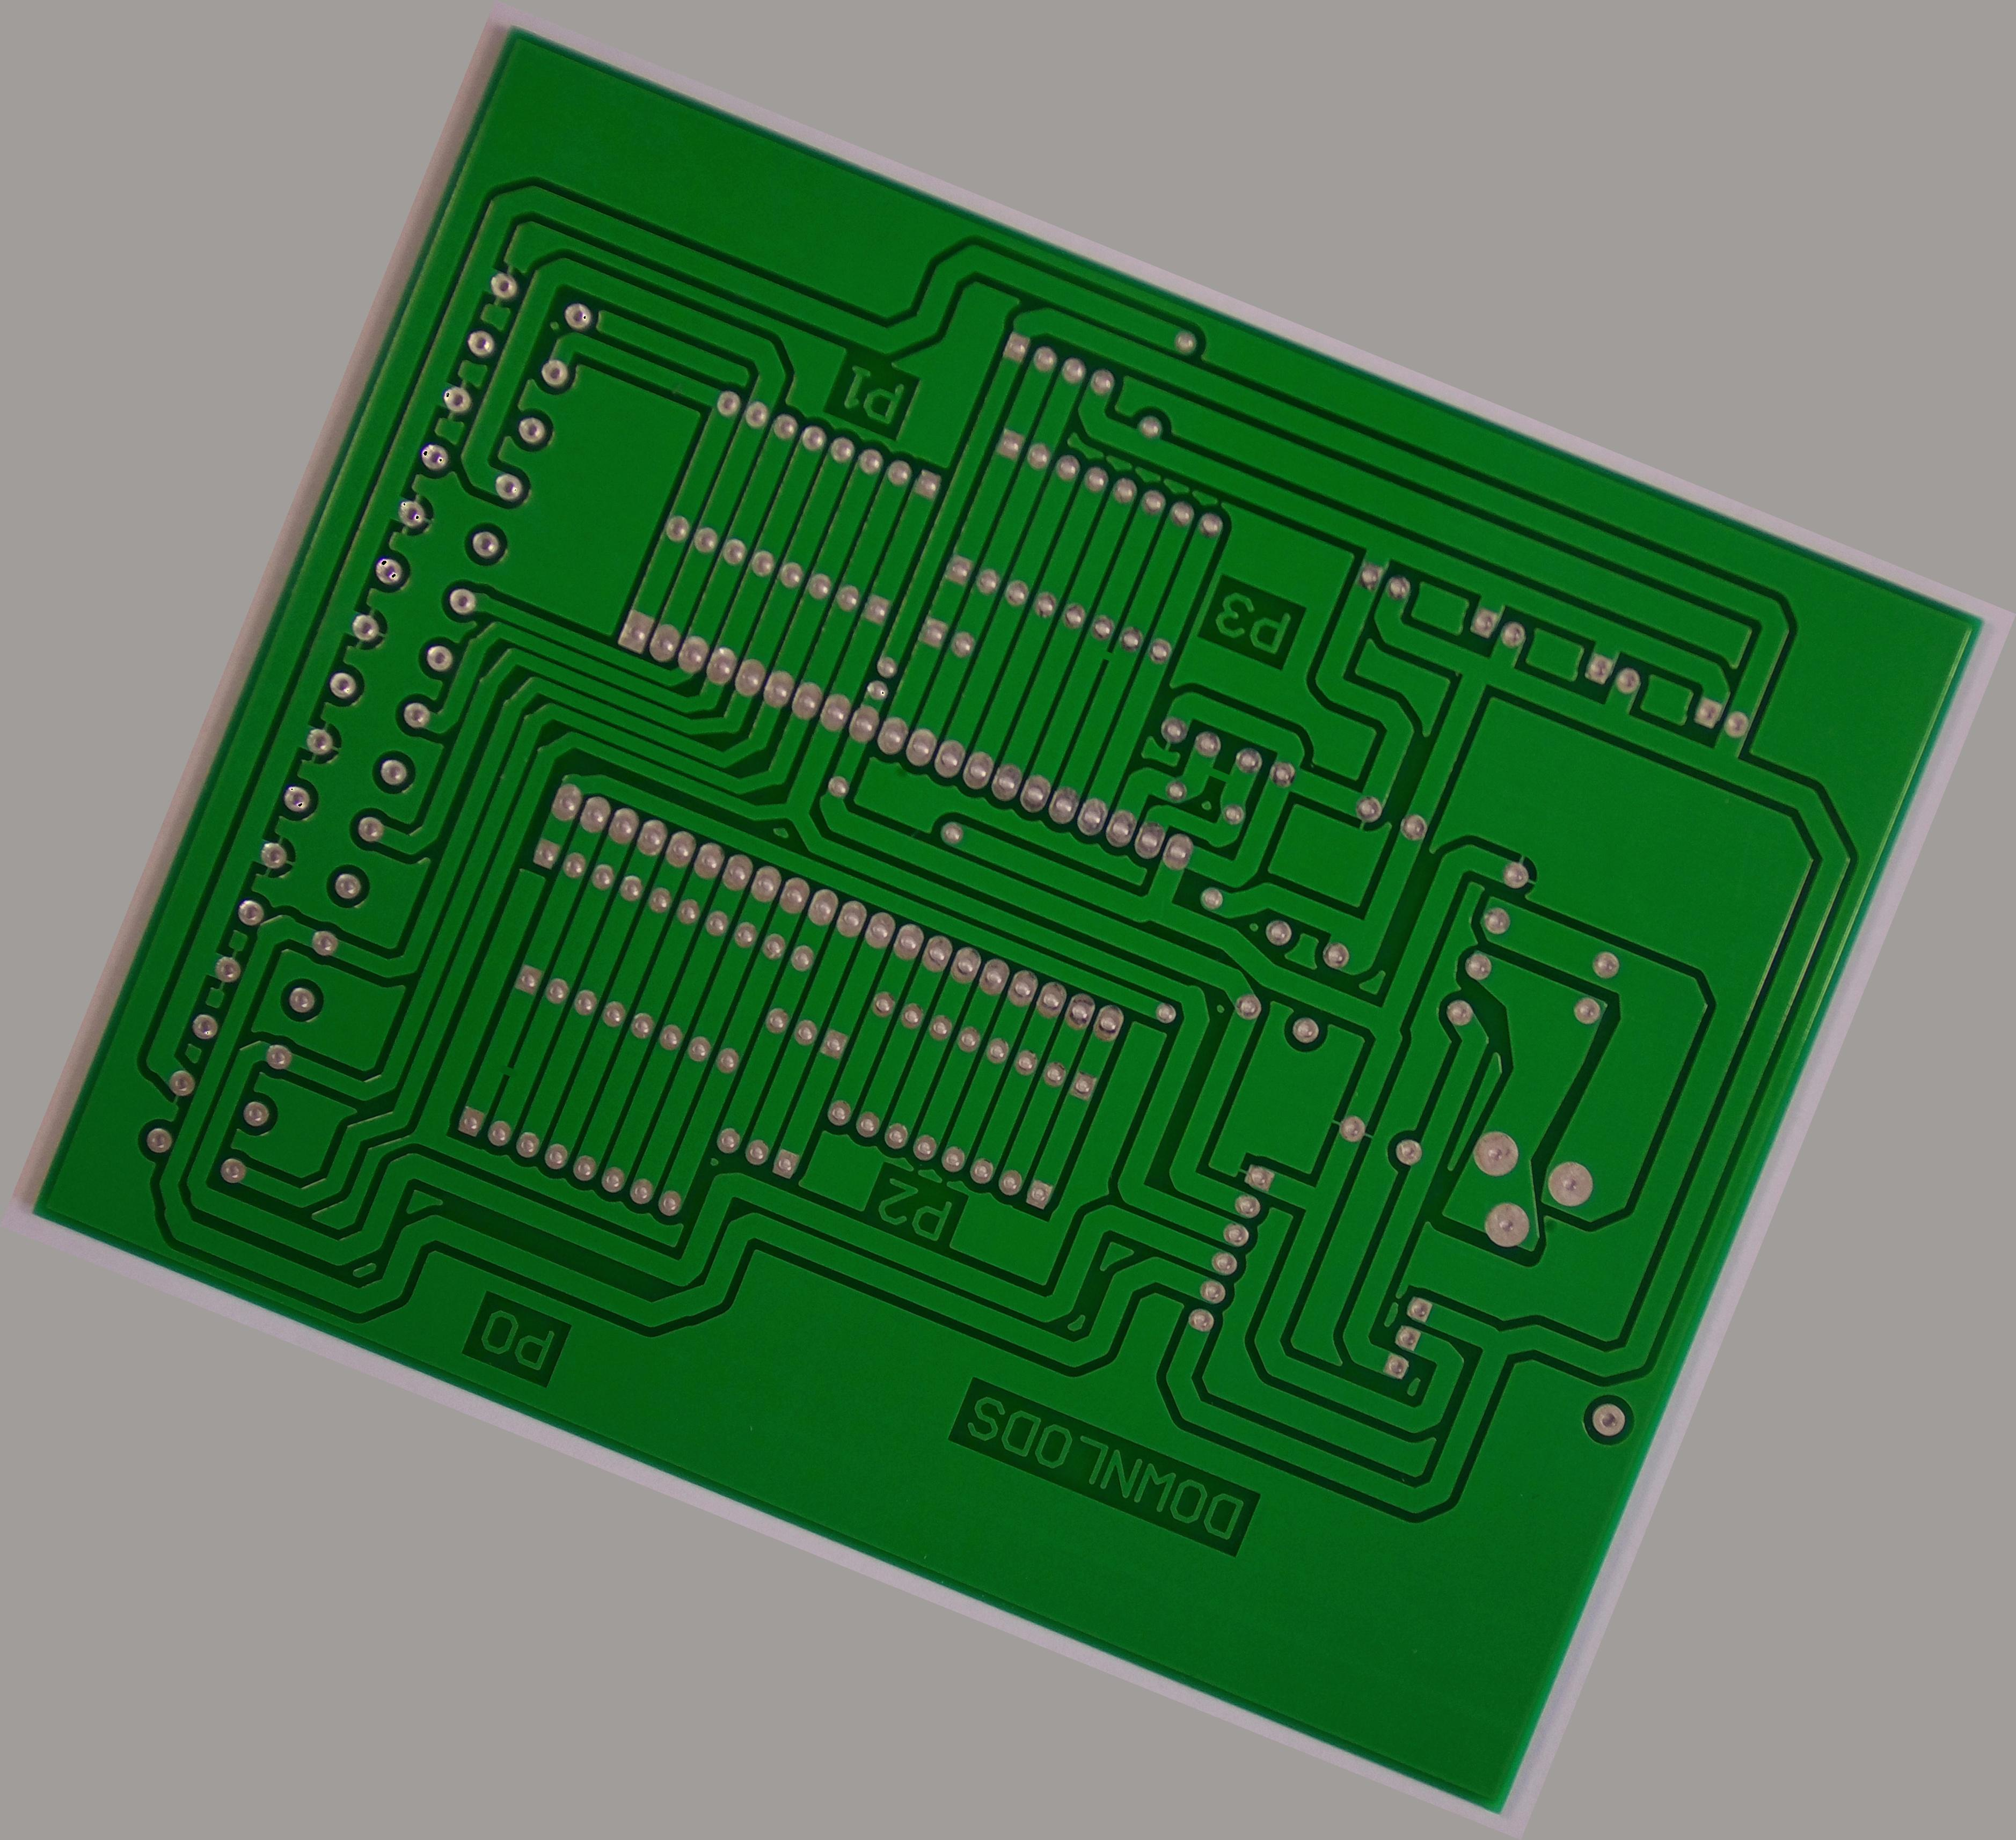short: (1189, 732, 1257, 808), (476, 1043, 541, 1108), (1085, 625, 1138, 679)
